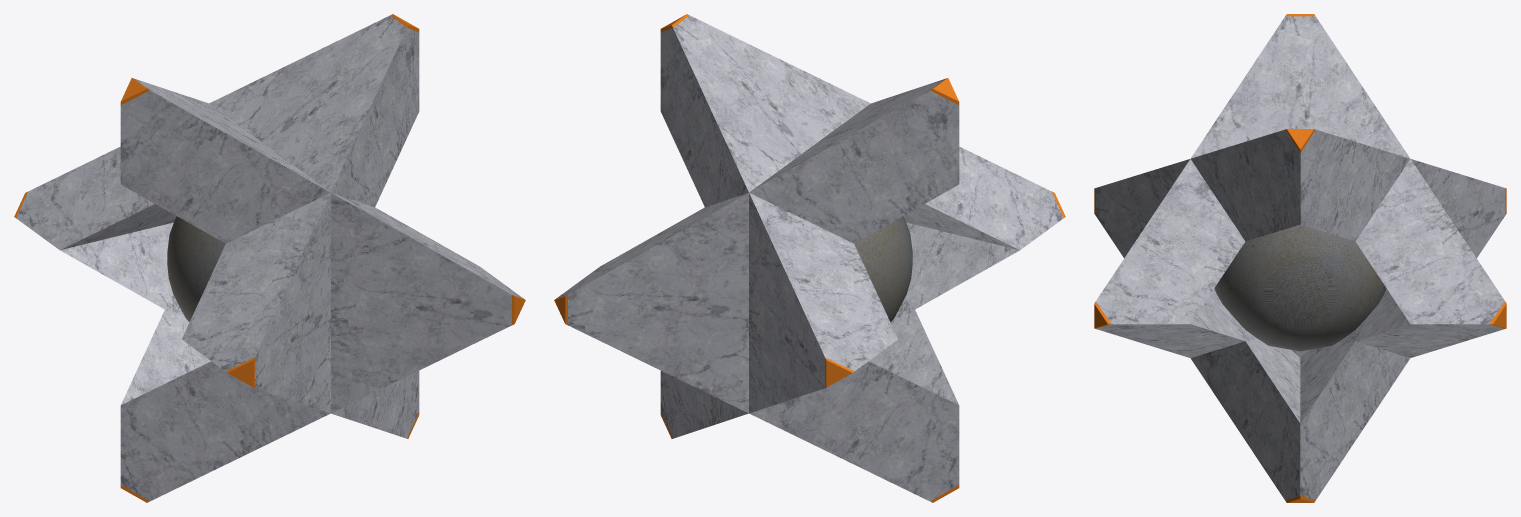
Rendered from companion.v3.0.1.glb.
3 renders of one model, left to right at view 1: azimuth 30°, elevation 25°; view 2: azimuth 150°, elevation 25°; view 3: azimuth 270°, elevation 25°, orthographic. The views are drawn at different scales.
Visible parts, largest first — view 1: front.001, front, Sphere; view 2: front.001, front, Sphere; view 3: front, front.001, Sphere.
Boxes of the visible parts, left/top/right/bottom form: front.001: left=14, top=78, right=330, bottom=502; front: left=209, top=14, right=525, bottom=438; Sphere: left=167, top=216, right=225, bottom=321; front.001: left=749, top=78, right=1065, bottom=502; front: left=554, top=14, right=870, bottom=438; Sphere: left=854, top=216, right=912, bottom=321; front: left=1094, top=129, right=1506, bottom=502; front.001: left=1094, top=14, right=1506, bottom=257; Sphere: left=1214, top=224, right=1386, bottom=351.
Size of the model in its own units: 2 by 2.65 by 2.65.
3 materials, 2 textured.
